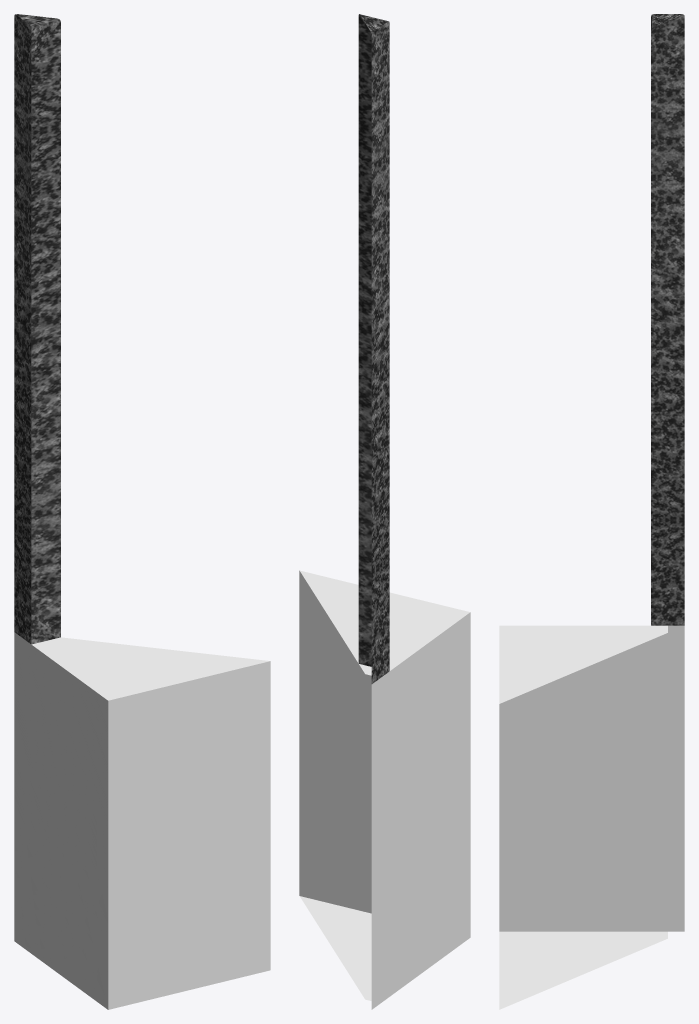
The model's file is Parapet02_End2.FBX.
3 renders of one model, left to right at view 1: azimuth 30°, elevation 25°; view 2: azimuth 150°, elevation 25°; view 3: azimuth 270°, elevation 25°, orthographic. The views are drawn at different scales.
Visible parts, largest first — view 1: Parapet02_End2; view 2: Parapet02_End2; view 3: Parapet02_End2.
Part boxes in pixels (box(x1,y1,x2,y2)): Parapet02_End2: box(14, 14, 270, 1009); Parapet02_End2: box(299, 14, 470, 1009); Parapet02_End2: box(499, 14, 684, 1009).
Bounding box in the file's own units: 27.49 × 150 × 27.5.
